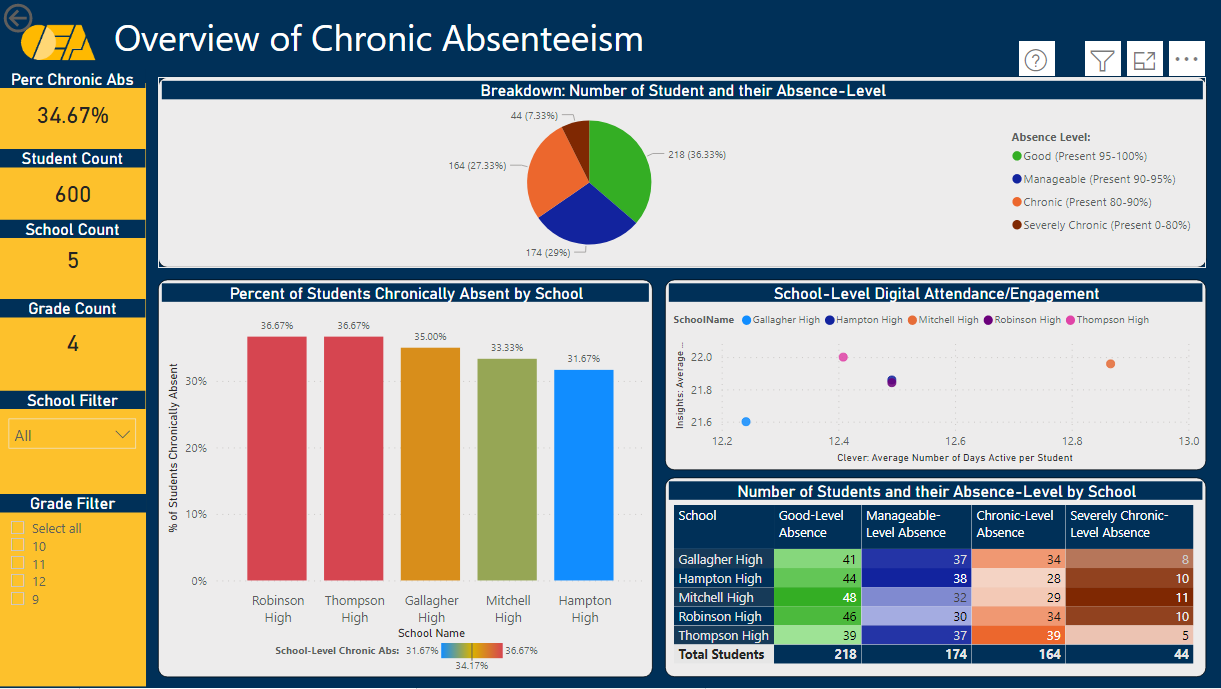

What the dashboard file says about the page in this screenshot:
{"tool":"powerbi","page":{"name":"Overview of Chronic Absenteeism","canvas":[1280,720],"ordinal":1},"visuals":[{"type":"shape","box":[0,88.3,154.3,631.7],"z":0},{"type":"card","title":"Student Count","fields":{"Values":["Count(StudentModel_pseudo.StudentId_external_pseudonym)"]},"box":[0,157.2,153.4,73.8],"z":1000},{"type":"slicer","title":"School Filter","fields":{"Values":["StudentModel_pseudo.SchoolName"]},"box":[0,409,153.4,83.3],"z":2000},{"type":"card","title":"Grade Count","fields":{"Values":["Count(StudentModel_pseudo.StudentGrade)"]},"box":[0,314.3,153.4,72],"z":4000},{"type":"card","title":"School Count","fields":{"Values":["Count(StudentModel_pseudo.SchoolName)"]},"box":[0,231,153.4,62.5],"z":5000},{"type":"image","box":[9.4,13.6,105.3,60.5],"z":6000},{"type":"textbox","box":[105.3,9.4,693.2,68.8],"z":7000},{"type":"scatterChart","title":"School-Level Digital Attendance/Engagement","fields":{"X":["Avg(StudentModel_pseudo.Clever_numDaysActive)"],"Series":["StudentModel_pseudo.SchoolName"],"Y":["Avg(StudentModel_pseudo.Insights_numDaysActive)"]},"box":[696.5,293.3,566.3,199.2],"z":14000},{"type":"clusteredColumnChart","title":"Percent of Students Chronically Absent by School","fields":{"Category":["StudentModel_pseudo.SchoolName"],"Y":["StudentModel_pseudo.Chronic Absence Percentage"]},"box":[166.3,293.3,517.6,415.7],"z":15000},{"type":"pivotTable","title":"Number of Students and their Absence-Level by School","fields":{"Rows":["StudentModel_pseudo.SchoolName"],"Values":["StudentModel_pseudo.Abs Level_Good Group_Student Count","StudentModel_pseudo.Abs Level_Manageable Group_Student Count","StudentModel_pseudo.Abs Level_Chronic Group_Student Count","StudentModel_pseudo.Abs Level_Severely Chronic Group_Student Count"]},"box":[696.5,500.4,566.3,208.6],"z":16000},{"type":"card","title":"Perc Chronic Abs","fields":{"Values":["StudentModel_pseudo.Chronic Absence Percentage"]},"box":[0,73.8,153.4,73.8],"z":17000},{"type":"pieChart","title":"Breakdown: Number of Student and their Absence-Level","fields":{"Y":["StudentModel_pseudo.Abs Level_Good Group_Student Count","StudentModel_pseudo.Abs Level_Manageable Group_Student Count","StudentModel_pseudo.Abs Level_Chronic Group_Student Count","StudentModel_pseudo.Abs Level_Severely Chronic Group_Student Count"]},"box":[166.3,81.6,1096.5,199.2],"z":18000},{"type":"actionButton","box":[0,0,100,40],"z":19000},{"type":"slicer","title":"Grade Filter","fields":{"Values":["StudentModel_pseudo.StudentGrade"]},"box":[0,517.6,153.7,123.9],"z":20000}]}

Visuals, with their boxes in screenshot pixels (x1, y1, x2, y2), scaled from the page's 1280x720 canvas onto the 1221x689 screenshot:
shape: [0,84,147,688]
"Student Count" card: [0,150,146,221]
"School Filter" slicer: [0,391,146,471]
"Grade Count" card: [0,301,146,370]
"School Count" card: [0,221,146,281]
image: [9,13,109,71]
textbox: [100,9,762,75]
"School-Level Digital Attendance/Engagement" scatterChart: [664,281,1205,471]
"Percent of Students Chronically Absent by School" clusteredColumnChart: [159,281,652,678]
"Number of Students and their Absence-Level by School" pivotTable: [664,479,1205,678]
"Perc Chronic Abs" card: [0,71,146,141]
"Breakdown: Number of Student and their Absence-Level" pieChart: [159,78,1205,269]
actionButton: [0,0,95,38]
"Grade Filter" slicer: [0,495,147,614]
